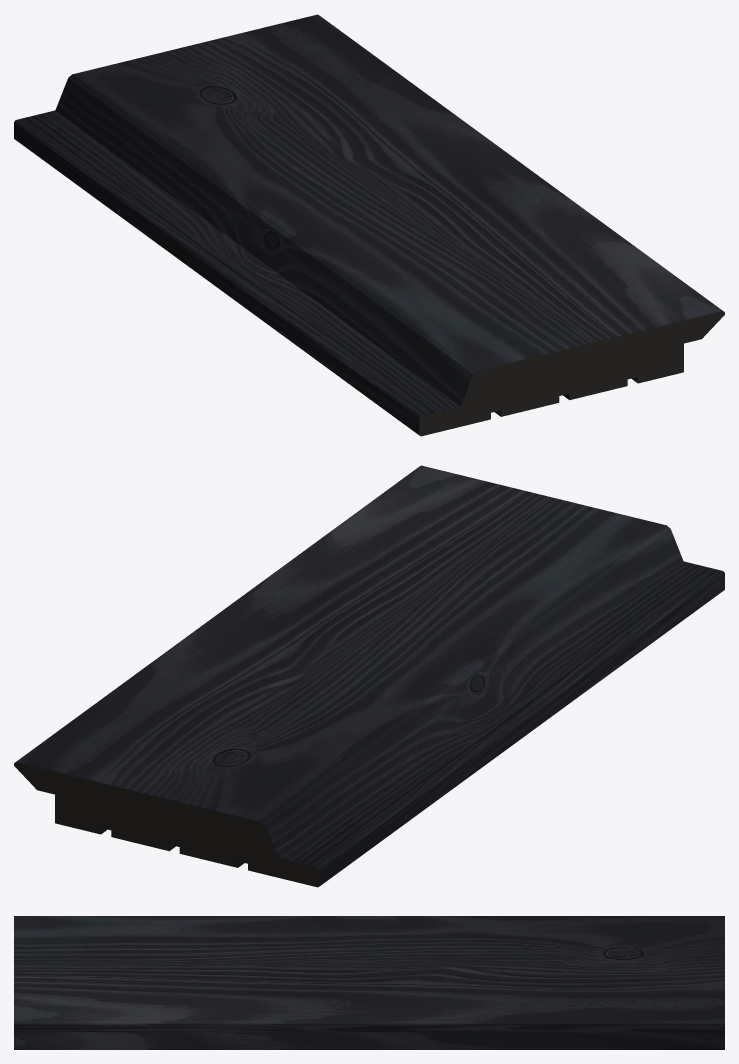
Rendered from larch-facade-half-tenon-45-black.glb.
3 views of the same model, one above another, from view 1: azimuth 30°, elevation 25°; view 2: azimuth 150°, elevation 25°; view 3: azimuth 270°, elevation 25° (orthographic). The views are drawn at different scales.
Visible parts, largest first — view 1: Pusė_Špunto_45; view 2: Pusė_Špunto_45; view 3: Pusė_Špunto_45.
Part boxes in pixels (<box>): Pusė_Špunto_45: <box>14,14,724,436</box>; Pusė_Špunto_45: <box>14,465,724,887</box>; Pusė_Špunto_45: <box>14,916,724,1049</box>.
Size of the model in its own units: 0.0723 by 0.0117 by 0.166.
3 materials, 1 textured.
